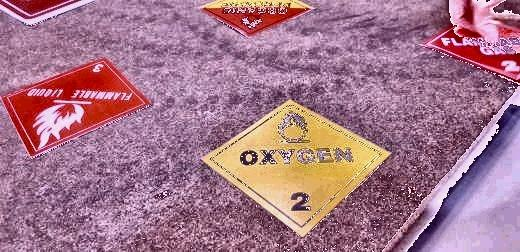flammable: (5, 53, 164, 160), (422, 14, 518, 86)
organic-peroxide: (194, 1, 320, 41)
oxidizer: (195, 96, 401, 241)
